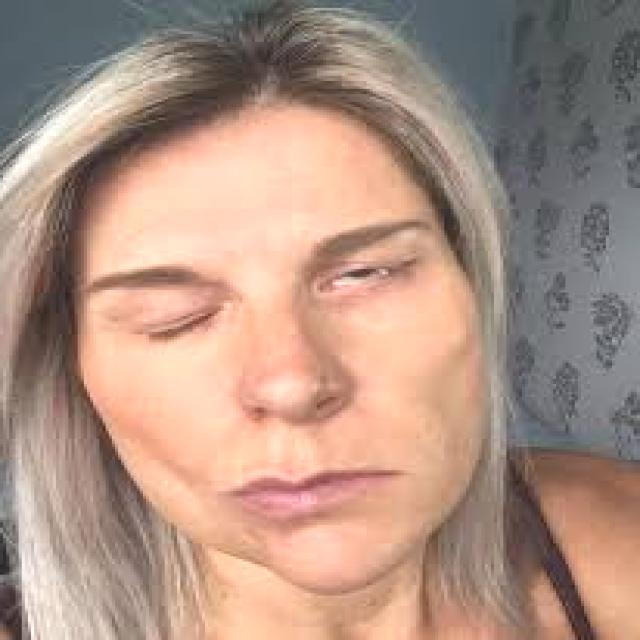stroke_face: (74, 31, 493, 586)
